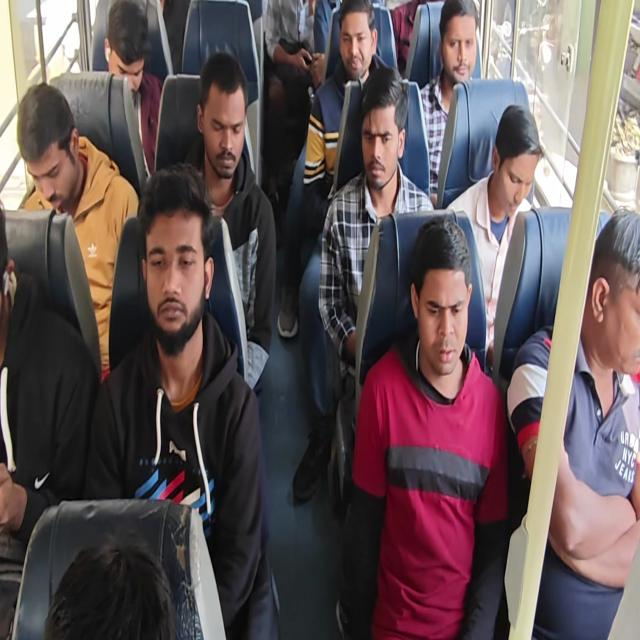person: (46, 525, 175, 640), (126, 164, 204, 334), (4, 78, 99, 212), (404, 206, 474, 383), (480, 87, 543, 222), (597, 204, 640, 392), (350, 77, 412, 198), (89, 0, 160, 97), (199, 50, 253, 177), (335, 0, 382, 84), (440, 0, 482, 86)
